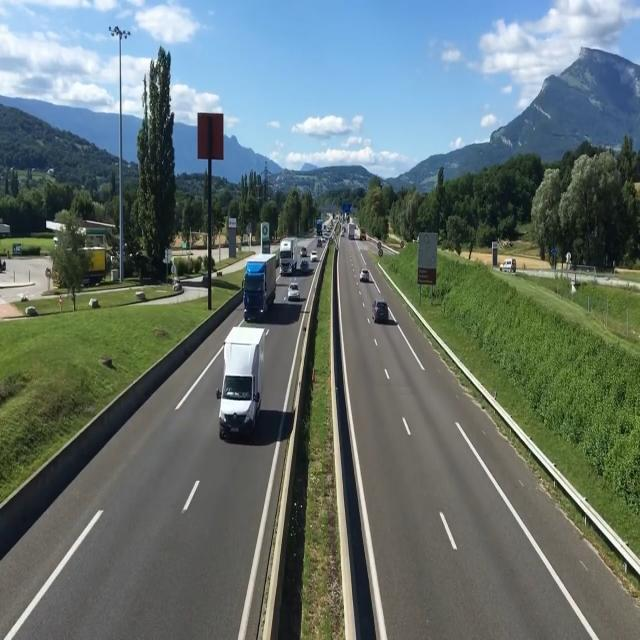car: (220, 326, 266, 442), (373, 294, 396, 328), (287, 280, 302, 306), (361, 265, 373, 285), (310, 248, 318, 265)
truck: (242, 256, 276, 323), (278, 233, 297, 277)
